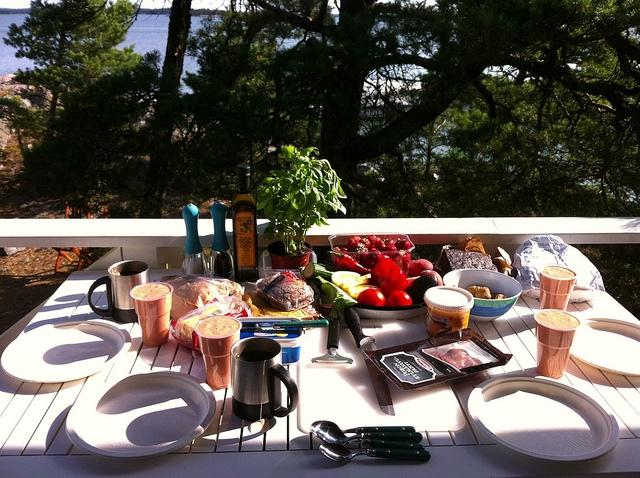tomato: (378, 266, 408, 300), (358, 289, 386, 306), (387, 290, 412, 306)
